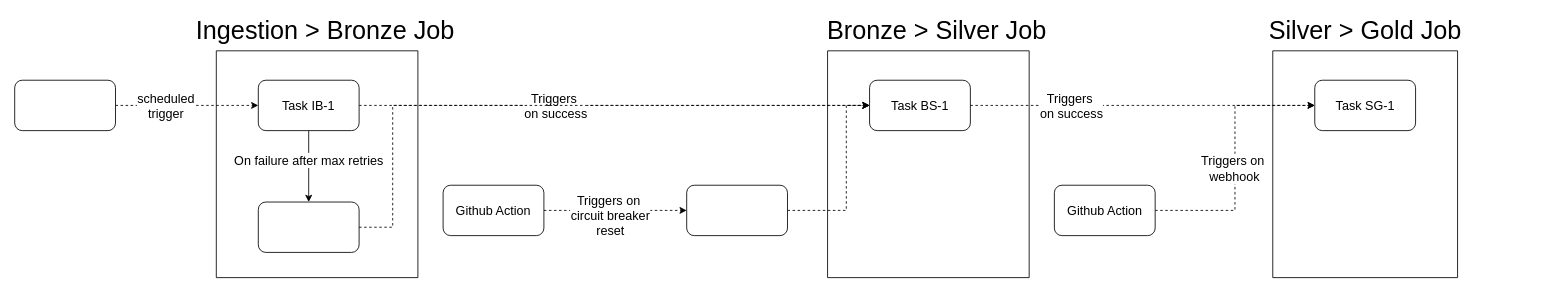
Image size: 1565x292. Some labels were removed from this diagram. Here are the shapes that lost their labels. From the top down, the box of each, then its label:
(14, 79, 116, 131): Monthly Scheduler
(257, 201, 359, 252): Task IB-1a
(686, 184, 788, 236): reset pipeline
